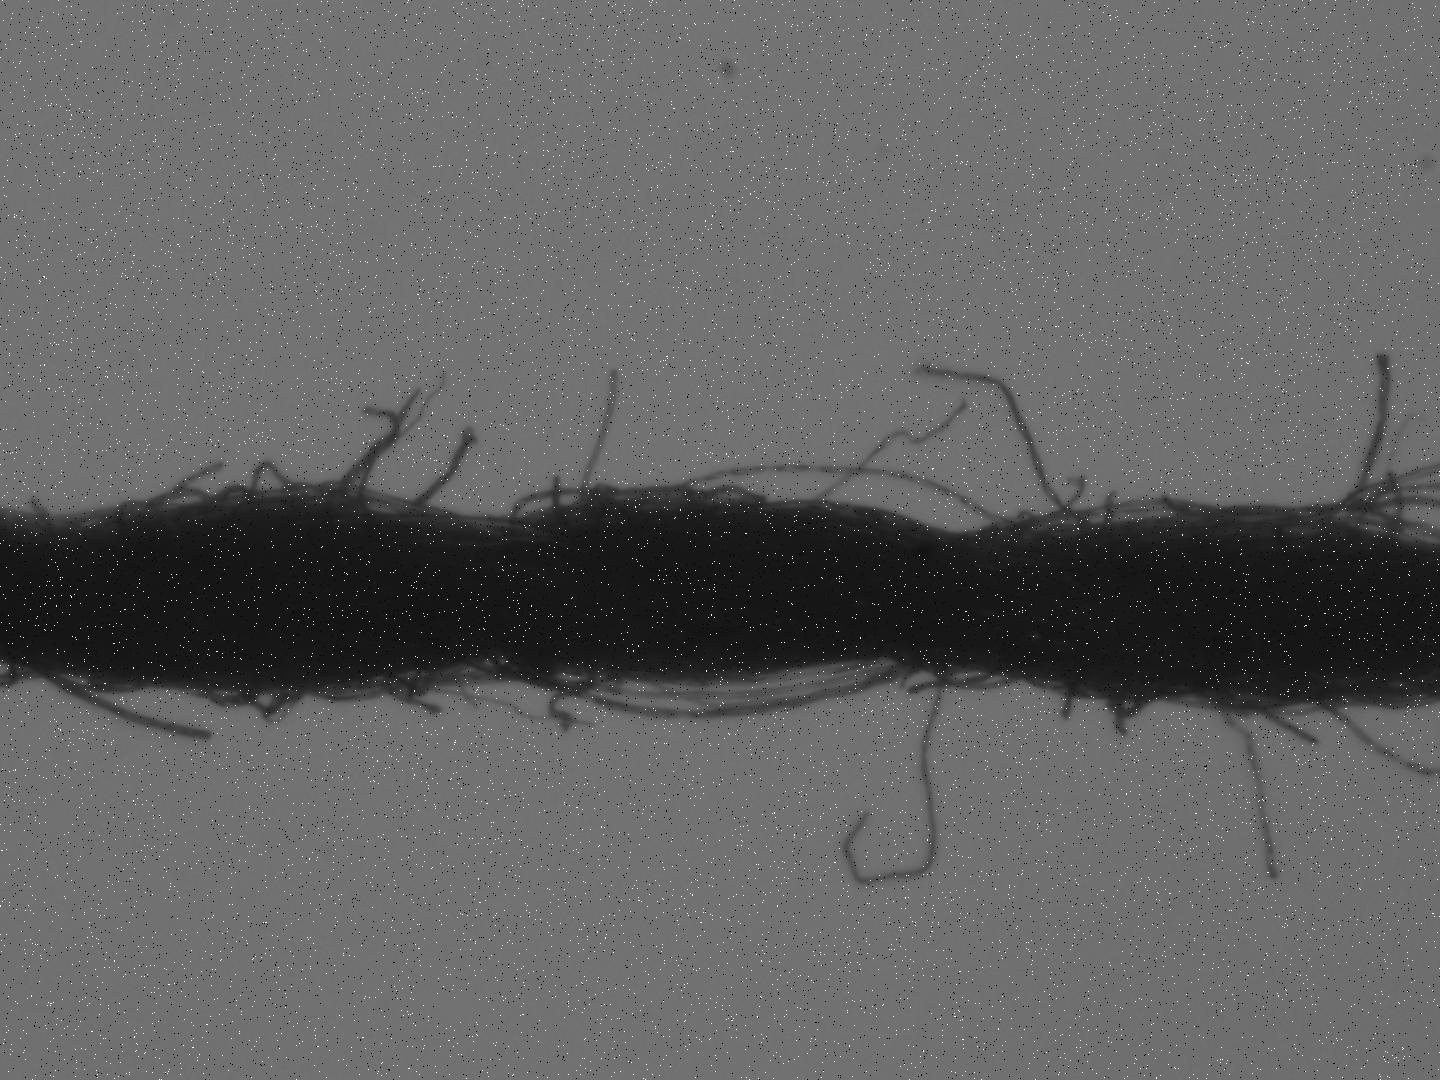loop_fiber: (646, 464, 1000, 538), (534, 659, 905, 724), (472, 663, 618, 694), (922, 658, 1020, 693), (230, 462, 293, 511), (238, 685, 299, 723), (1086, 692, 1154, 725), (671, 489, 754, 511), (196, 684, 251, 707)
protruding_fiber: (914, 354, 1076, 525), (849, 663, 960, 886), (1214, 699, 1288, 887), (36, 668, 210, 743), (414, 425, 486, 515), (578, 369, 621, 504)
